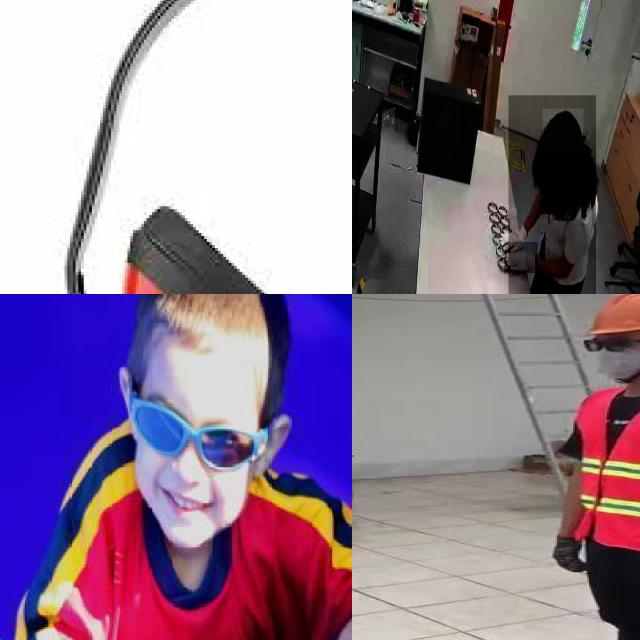Ear-protection: (113, 200, 352, 294)
face_mask: (584, 332, 640, 379)
face_nomask: (132, 384, 250, 526)
glasses: (129, 376, 267, 471), (574, 335, 632, 354)
hand_glove: (550, 535, 591, 576), (497, 220, 531, 260), (504, 242, 538, 274)
head_helmet: (580, 294, 640, 338)
head_nohelmet: (141, 294, 284, 352), (542, 109, 584, 158)
person: (33, 294, 352, 640), (537, 294, 640, 640), (508, 95, 596, 294)
vest: (571, 383, 640, 553)
